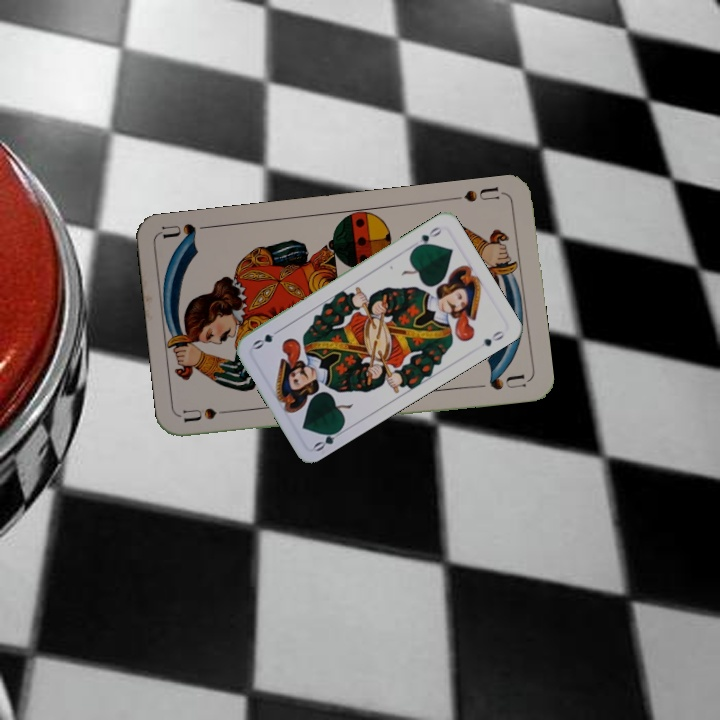GO: (310, 423, 347, 454), (410, 222, 445, 252)
SU: (448, 183, 507, 205), (180, 404, 240, 425)
